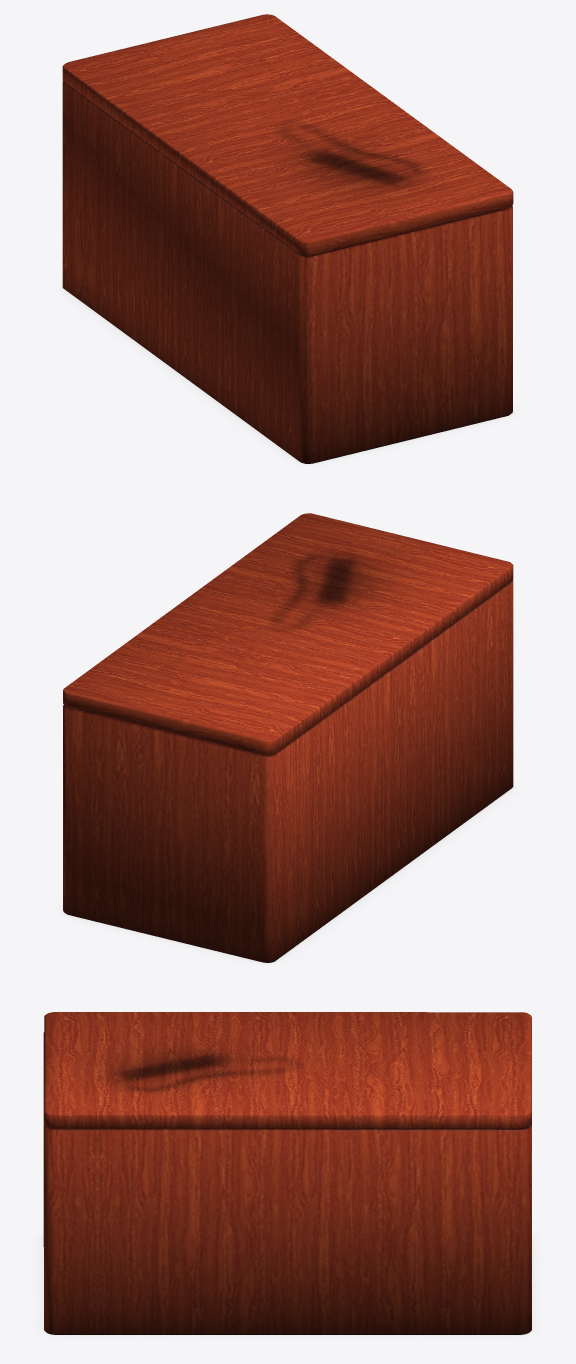
The model's file is right-double-wood-table.glb.
3 views of the same model, one above another, from view 1: azimuth 30°, elevation 25°; view 2: azimuth 150°, elevation 25°; view 3: azimuth 270°, elevation 25° (orthographic).
Visible parts, largest first — view 1: Base, Plane, Shadow; view 2: Base, Plane, Shadow; view 3: Base, Plane, Shadow.
Part boxes in pixels (<box>): Base: <box>62,81,512,463</box>; Plane: <box>62,14,513,256</box>; Shadow: <box>60,286,515,465</box>; Base: <box>63,580,513,962</box>; Plane: <box>63,513,513,755</box>; Shadow: <box>60,785,516,964</box>; Base: <box>43,1032,531,1334</box>; Plane: <box>44,1012,531,1128</box>; Shadow: <box>37,1234,538,1337</box>.
Size of the model in its own units: 1.28 by 0.999 by 2.24.
Materials: 3 (3 with a texture image).
